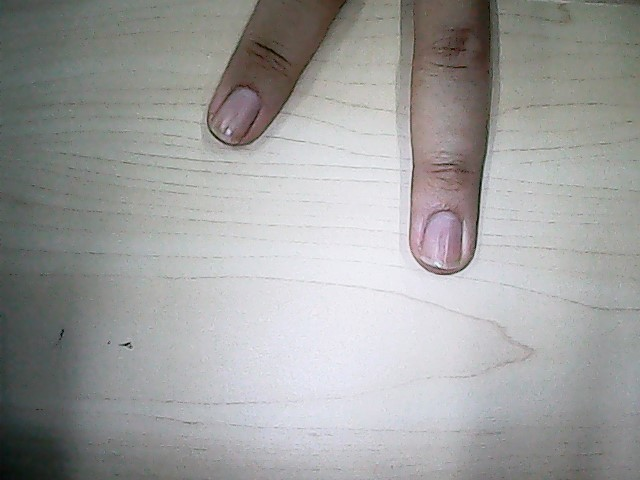nail: (422, 211, 463, 270), (218, 92, 256, 141)
